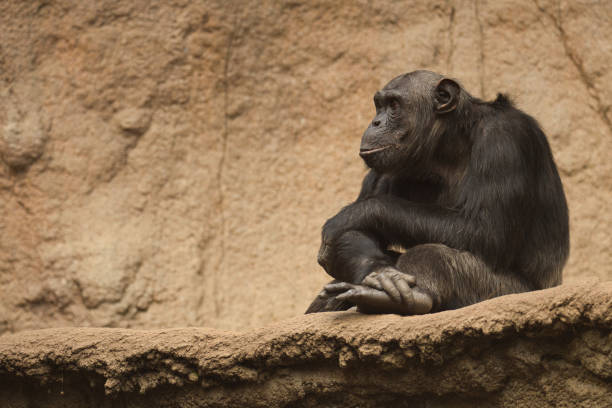chimpanzee: (353, 66, 465, 182)
